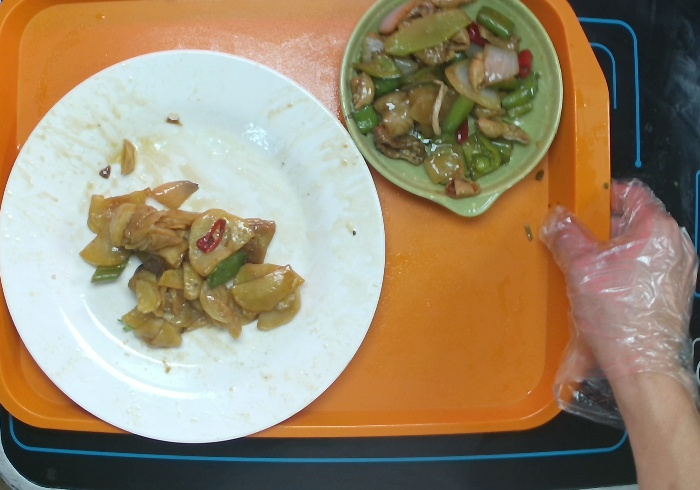NLDX-Da_Yuan_Pan: (1, 45, 389, 447)
NLDX-Lv_Hua_Shuang_Er_Die: (335, 1, 568, 220)
